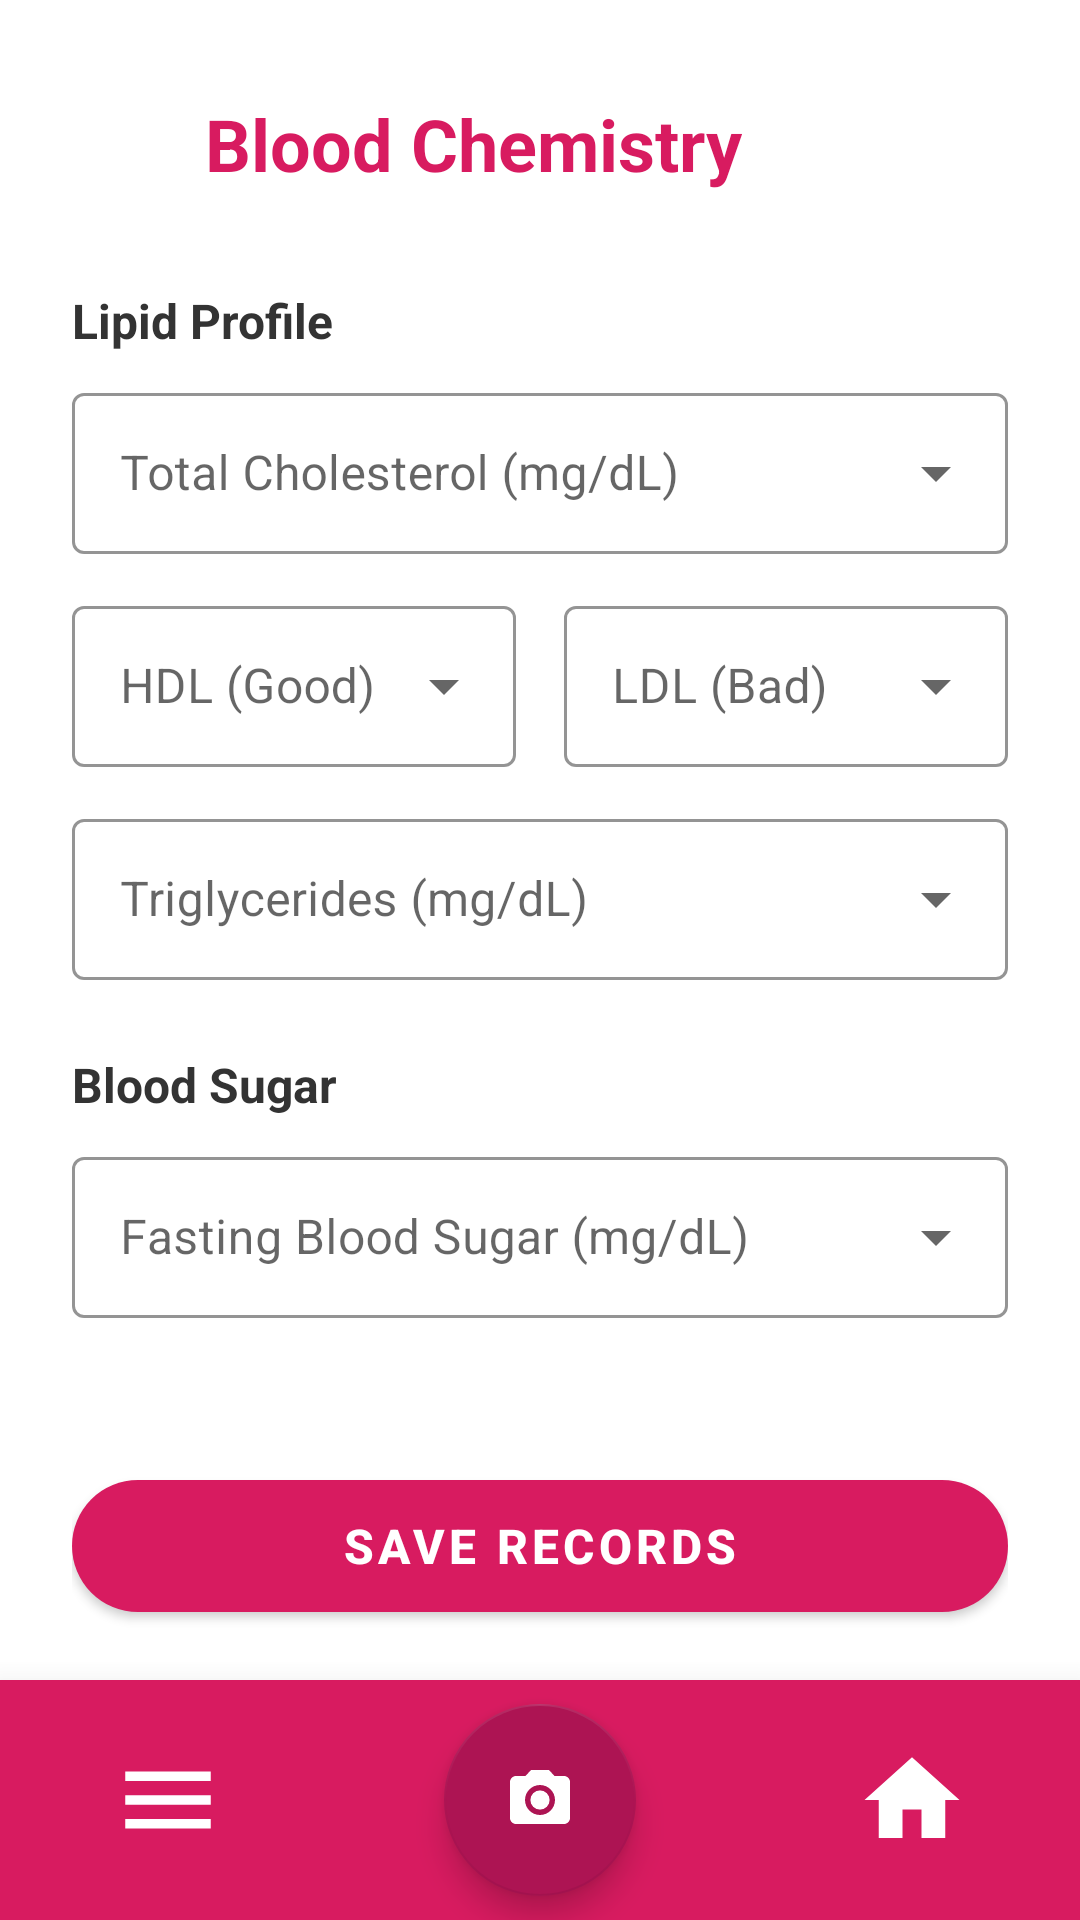

Icons on this 1080×1920 Android screen, each with its box as Rect(x1, y1, x2, y2):
camera: Rect(444, 1704, 636, 1896)
home: Rect(865, 1757, 959, 1838)
menu: Rect(125, 1771, 211, 1829)
